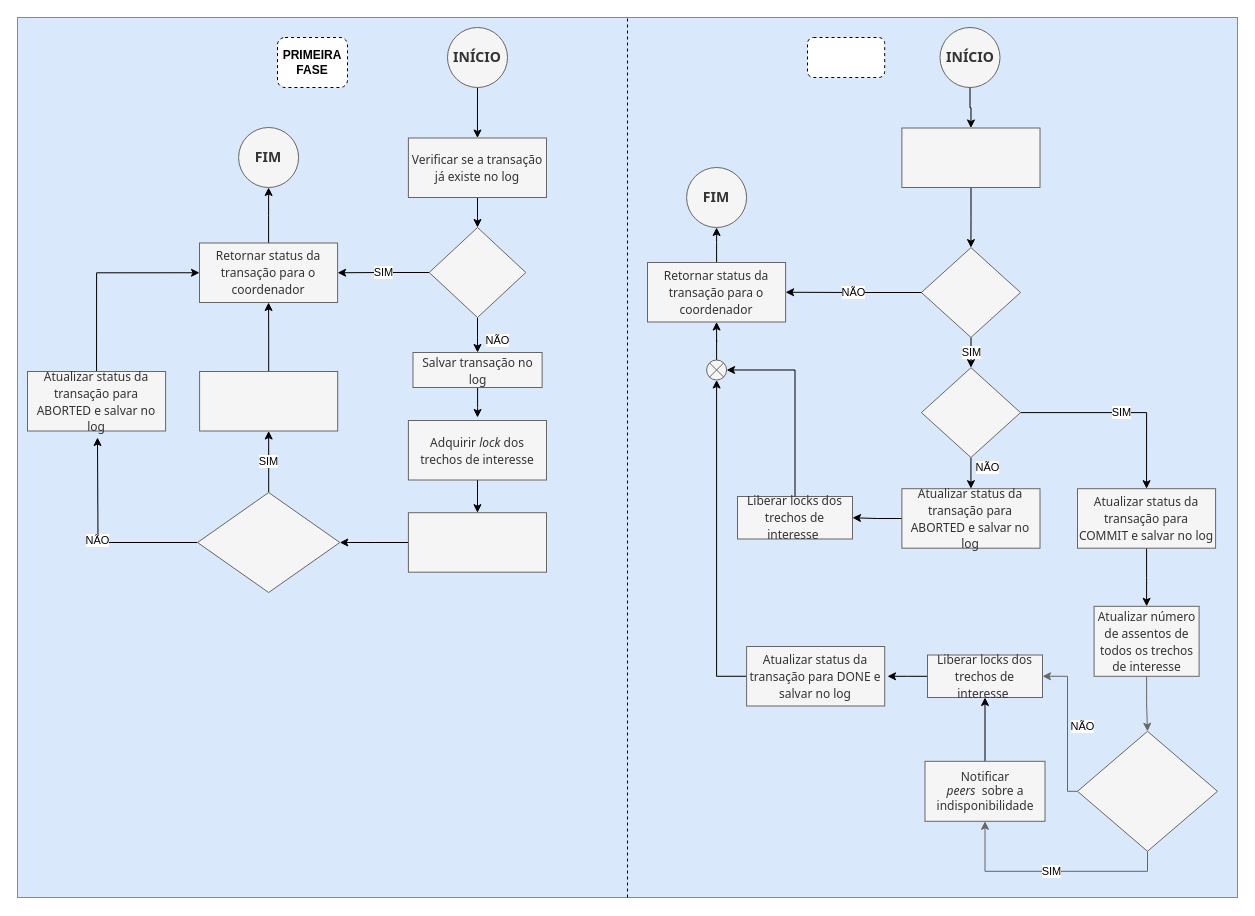
Image size: 1255x916. Some labels were removed from this diagram. The shapes that lost their labels are listed below. From the top down, each one's centre as x and y in pixels, then its label:
At (845,57): "SEGUNDA FASEFASE".
At (970,157): "Recuperar transação do banco de dados".
At (477,272): "Transação já existe?".
At (970,292): "Status da transação é igual a READY?".
At (268,400): "Atualizar status da transação para READY e salvar no log".
At (970,412): "Decisão do coordenador é COMMIT?".
At (268,542): "Todos os trechos tem disponibilidade?".
At (476,542): "Verificar disponibilidade de assentos nos trechos de interesse".
At (1147,790): "Algum trecho zerou o número de assentos?".
